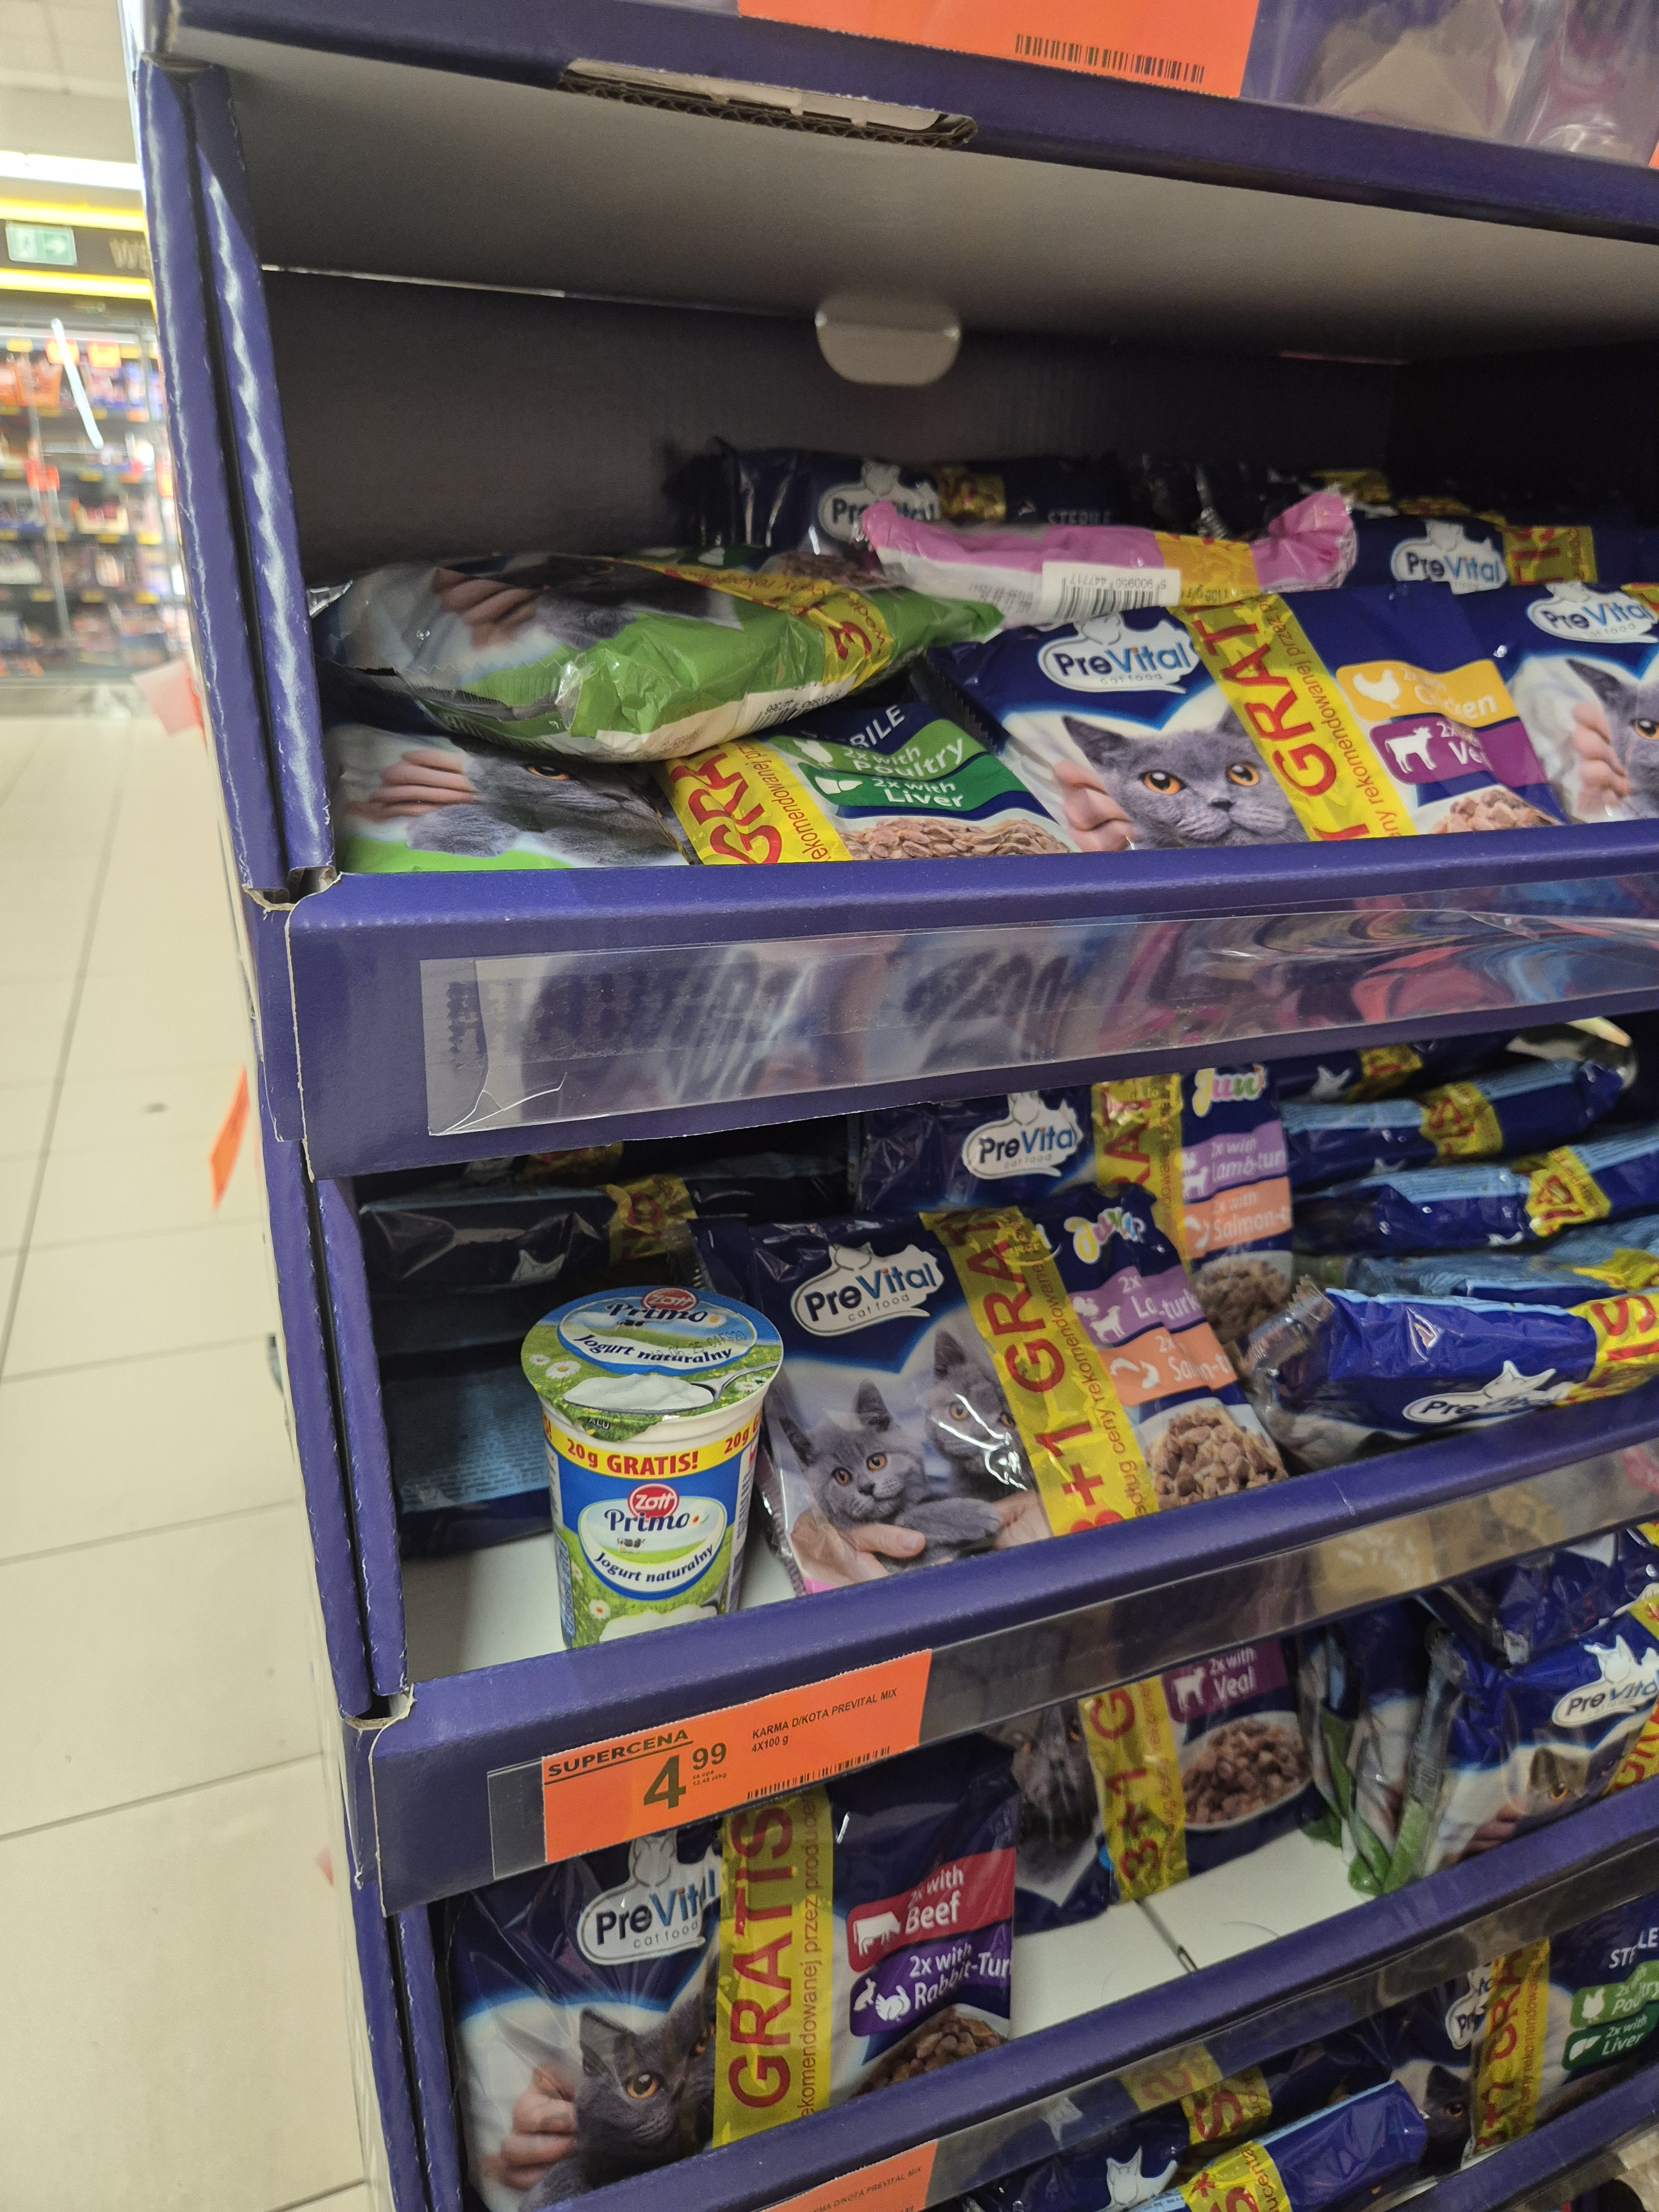Yogurt: (504, 1263, 788, 1672)
